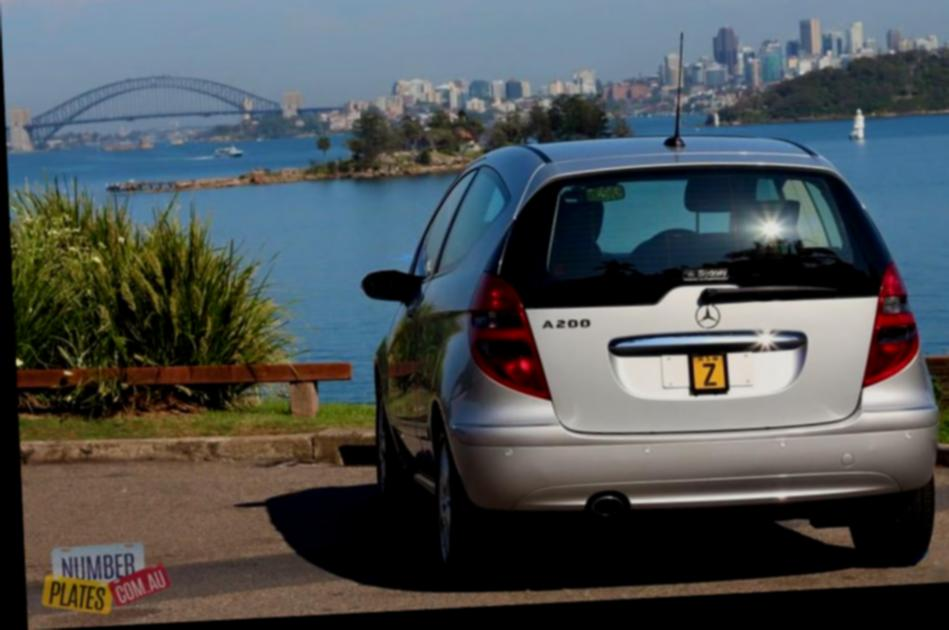License_Plate: (676, 341, 745, 405)
